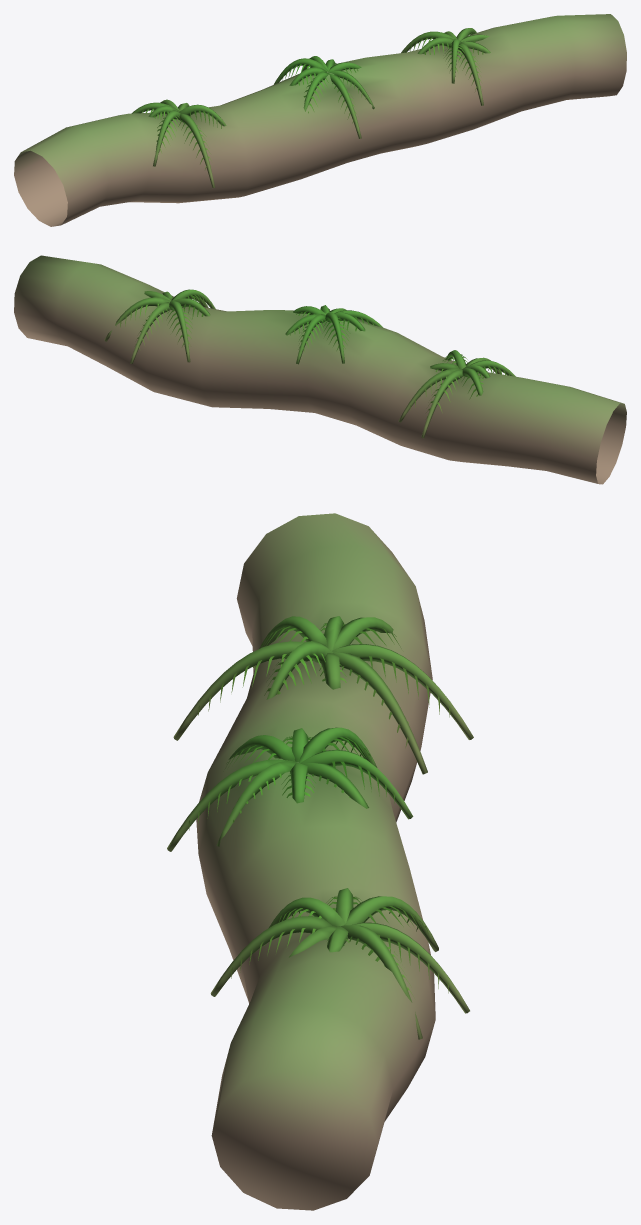
The model's file is log.glb.
The picture shows the model from 3 angles, top to bottom: view 1: azimuth 30°, elevation 25°; view 2: azimuth 150°, elevation 25°; view 3: azimuth 270°, elevation 25°; orthographic projection. The views are drawn at different scales.
Visible parts, largest first — view 1: log; view 2: log; view 3: log.
Boxes of the visible parts, x1,y1,x2,y2 form: log: (14, 14, 626, 226); log: (14, 255, 626, 484); log: (167, 513, 473, 1210).
Size of the model in its own units: 4.3 by 0.7931 by 0.9923.
